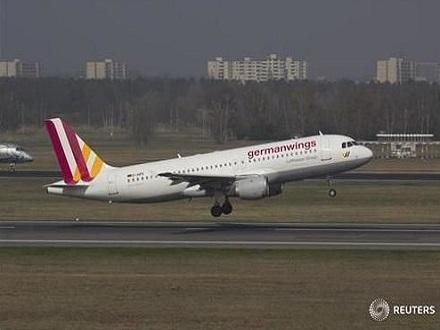airplane: (35, 114, 374, 216)
